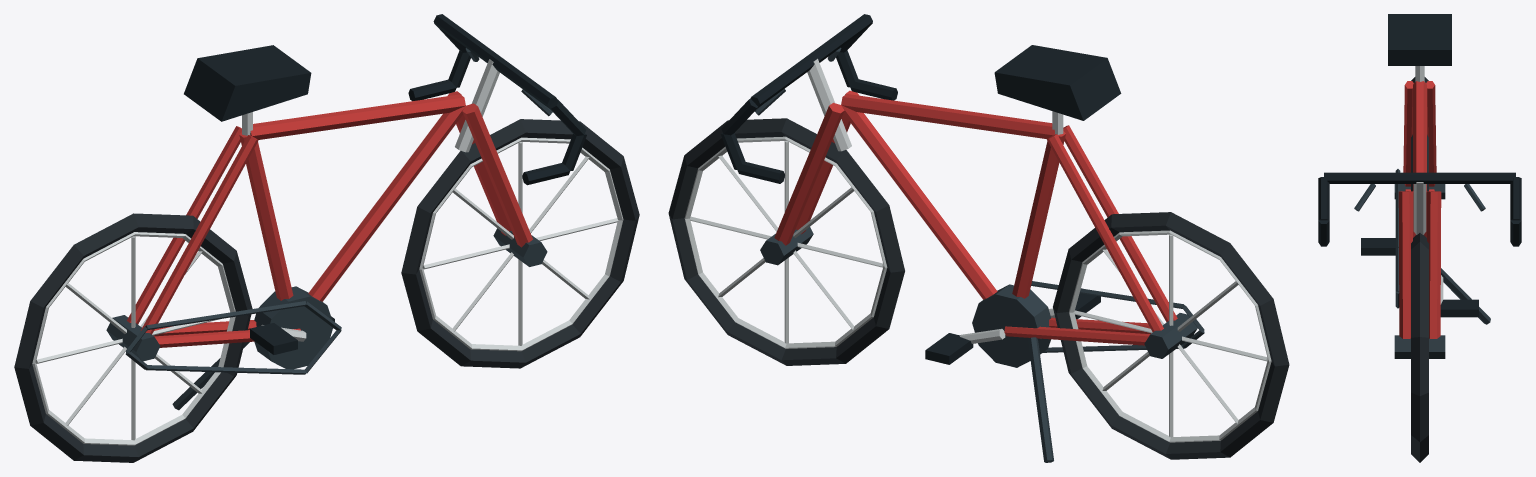
File: b03_drop_bar_road_bicycle.glb
3 renders of one model, left to right at view 1: azimuth 30°, elevation 25°; view 2: azimuth 150°, elevation 25°; view 3: azimuth 270°, elevation 25°, orthographic. The views are drawn at different scales.
Parts seen in each view (by area): view 1: b03_drop_bar_road_bicycle; view 2: b03_drop_bar_road_bicycle; view 3: b03_drop_bar_road_bicycle.
Part boxes in pixels (left/top/right/bottom): b03_drop_bar_road_bicycle: left=14, top=14, right=639, bottom=462; b03_drop_bar_road_bicycle: left=668, top=14, right=1289, bottom=462; b03_drop_bar_road_bicycle: left=1318, top=14, right=1521, bottom=462.
Size of the model in its own units: 1.81 by 1.02 by 0.604.
